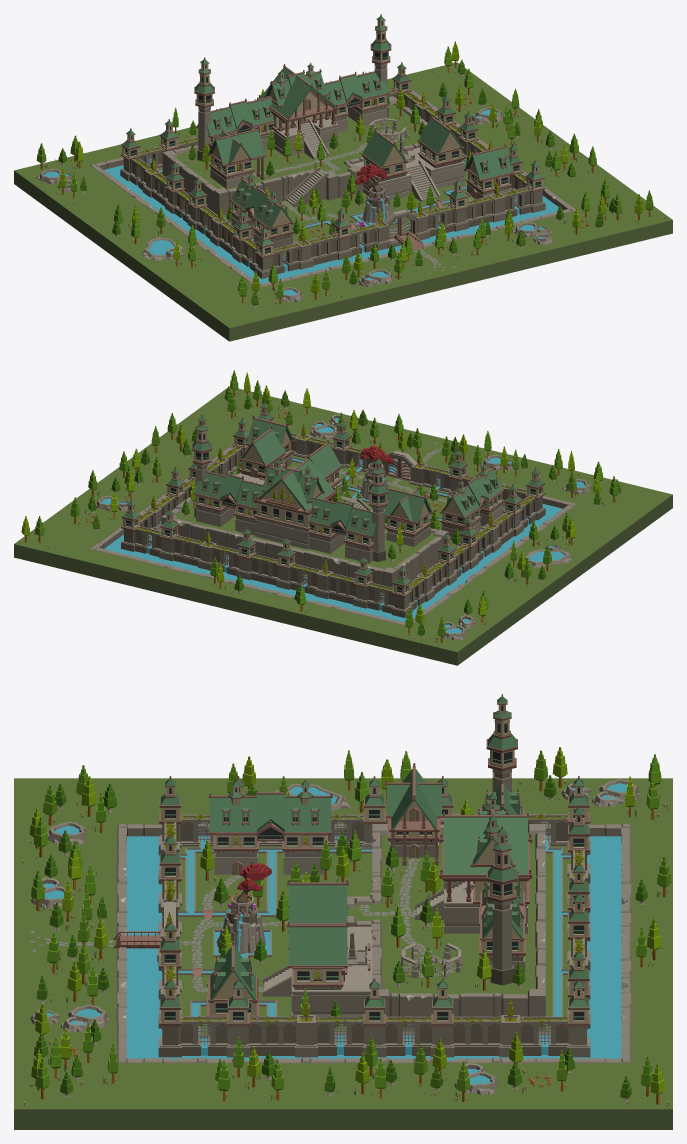
The model's file is SF_Bld_Preset_Elven_Castle_02.fbx.
The picture shows the model from 3 angles, top to bottom: view 1: azimuth 30°, elevation 25°; view 2: azimuth 150°, elevation 25°; view 3: azimuth 270°, elevation 25°; orthographic projection. The views are drawn at different scales.
Parts seen in each view (by area): view 1: SF_Bld_Preset_Elven_Castle_02; view 2: SF_Bld_Preset_Elven_Castle_02; view 3: SF_Bld_Preset_Elven_Castle_02.
Part boxes in pixels (x1=…): SF_Bld_Preset_Elven_Castle_02: x1=14, y1=14, x2=672, y2=341; SF_Bld_Preset_Elven_Castle_02: x1=14, y1=370, x2=672, y2=665; SF_Bld_Preset_Elven_Castle_02: x1=14, y1=694, x2=672, y2=1129.
Bounding box in the file's own units: 226 × 65.32 × 190.
